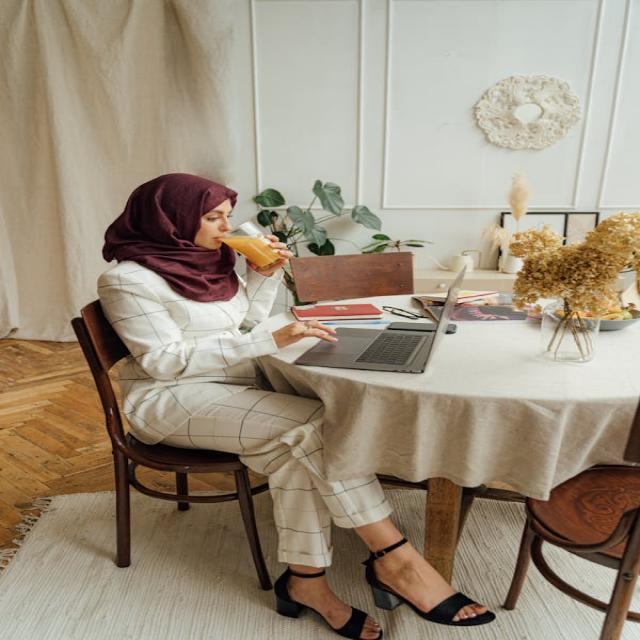Real human 2: (69, 158, 532, 640)
